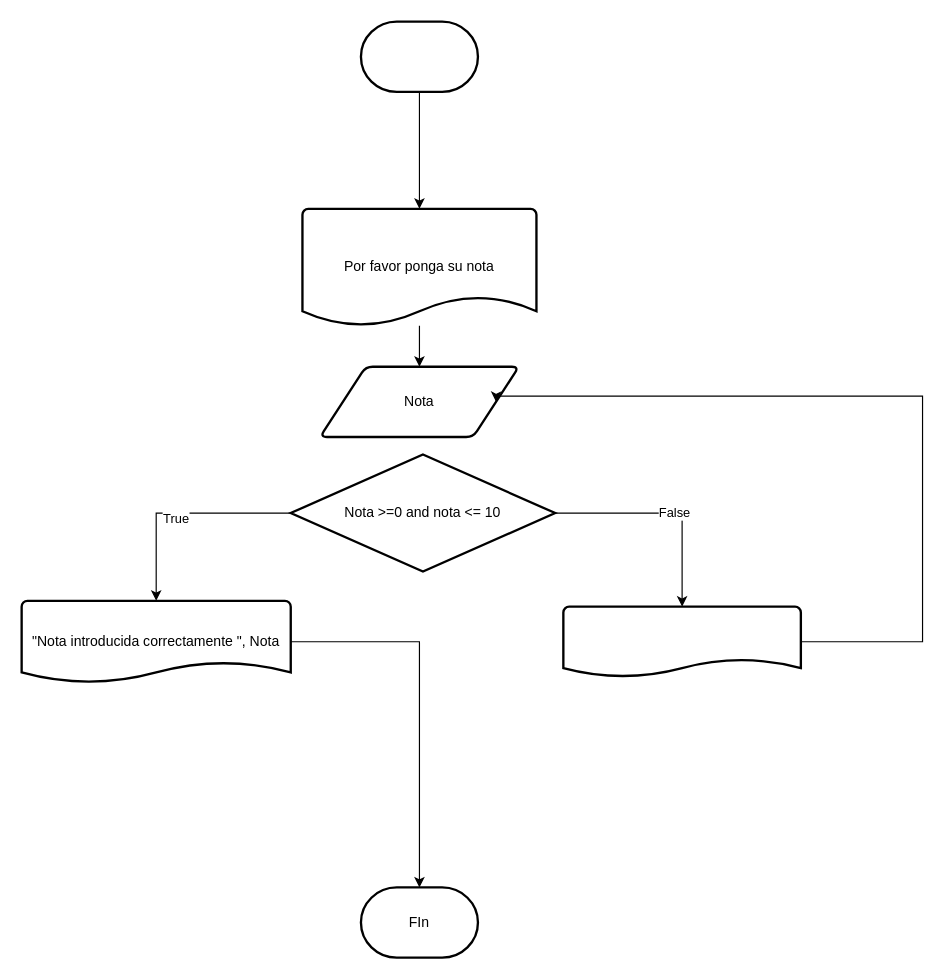
Some shapes in this 952 by 978 pixel diagram are drawn without their labels. The centre of each missing label's shape, as x and y in pixels:
"Error entre, solo notas entre 0 y 10 ", Nota: the point at 681,641
Inicio: the point at 419,56
